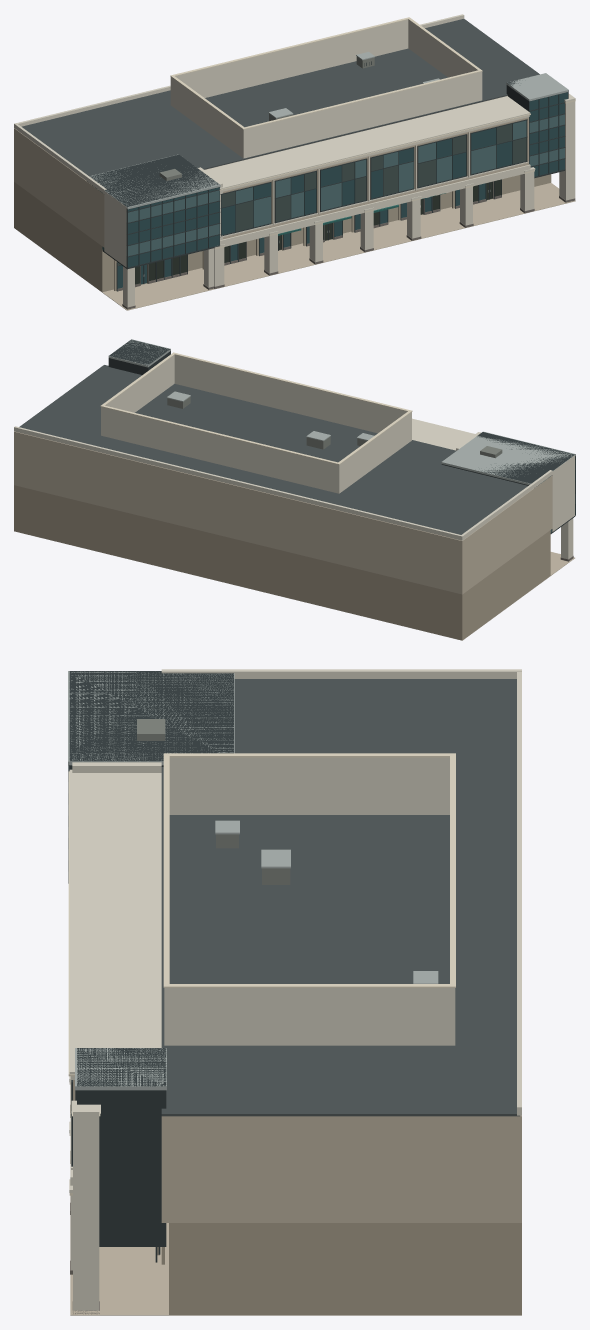
The model's file is white-columned.glb.
3 renders of one model, top to bottom at view 1: azimuth 30°, elevation 25°; view 2: azimuth 150°, elevation 25°; view 3: azimuth 270°, elevation 25°, orthographic. The views are drawn at different scales.
Parts seen in each view (by area): view 1: White Columned Breezeway; view 2: White Columned Breezeway; view 3: White Columned Breezeway.
Boxes of the visible parts, left/top/right/bottom form: White Columned Breezeway: left=14, top=14, right=575, bottom=310; White Columned Breezeway: left=14, top=339, right=575, bottom=640; White Columned Breezeway: left=68, top=669, right=521, bottom=1315.
Size of the model in its own units: 55.01 by 15.28 by 24.12.
